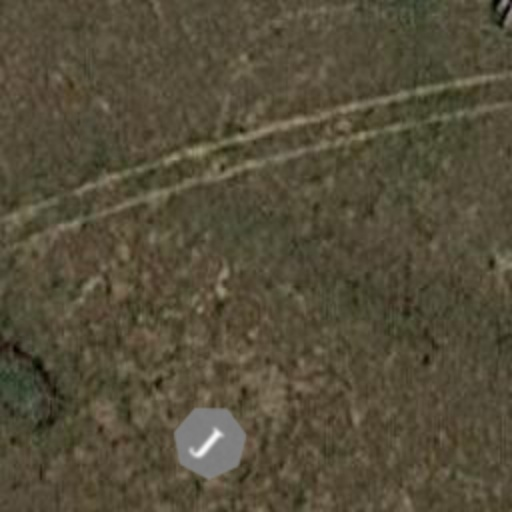heptagon: (156, 388, 264, 496)
